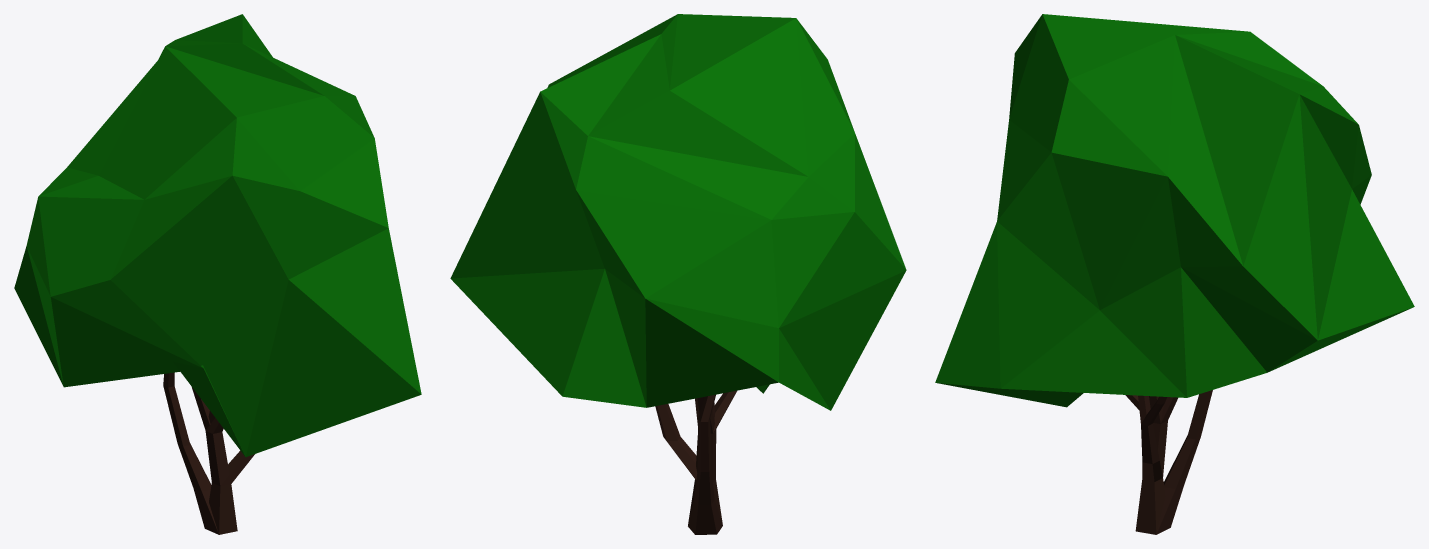
Rendered from Bush2.fbx.
The picture shows the model from 3 angles, left to right: view 1: azimuth 30°, elevation 25°; view 2: azimuth 150°, elevation 25°; view 3: azimuth 270°, elevation 25°; orthographic projection. The views are drawn at different scales.
Visible parts, largest first — view 1: Bush2; view 2: Bush2; view 3: Bush2.
Part boxes in pixels (box(x1,y1,x2,y2)): Bush2: box(14, 14, 421, 534); Bush2: box(450, 14, 906, 534); Bush2: box(935, 14, 1414, 534).
Size of the model in its own units: 143 by 185 by 158.
